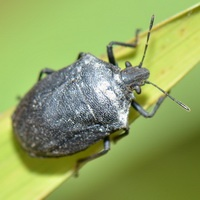insect: (12, 4, 199, 156)
